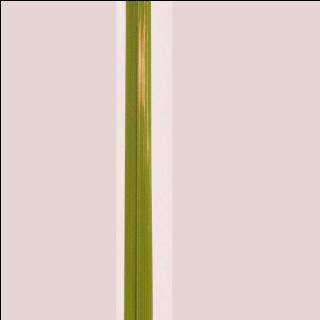Hawar-Daun: (131, 0, 150, 139)
